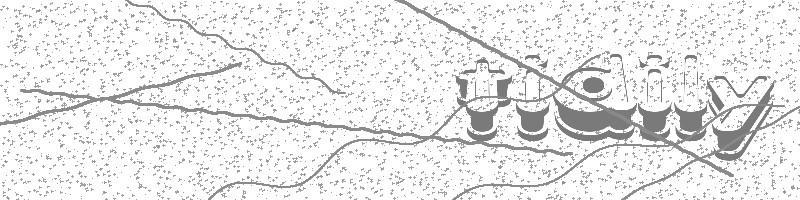d: (550, 46, 637, 141)
i: (513, 52, 553, 144), (638, 47, 673, 142)
l: (677, 49, 707, 142)
t: (455, 58, 512, 141)
y: (707, 71, 776, 161)
